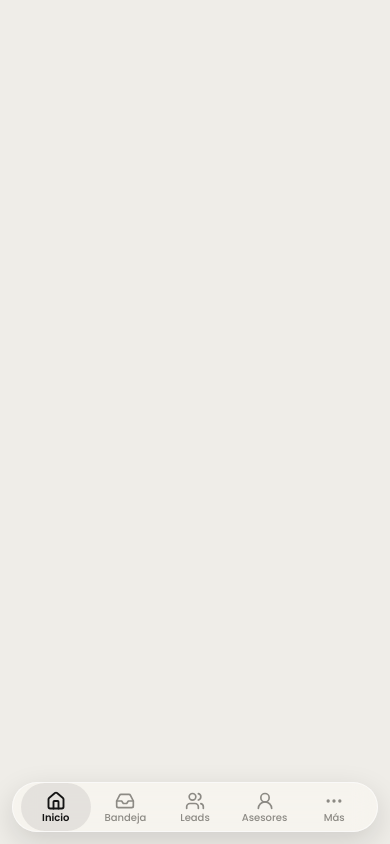
Test case: TabBarAdmin — hoja «Más» › el botón «Más» abre una hoja con Propiedades, Plantillas, Sugerencias, Notificaciones y Ajustes
Click the button "Más" at (334, 807), box [299,783,369,831]
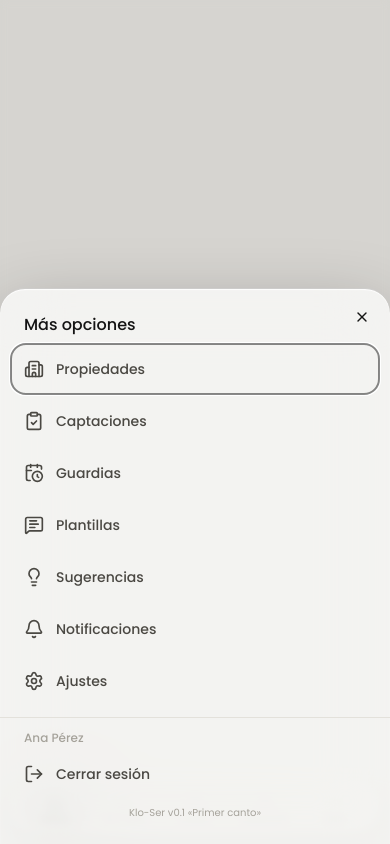
Expected: the link "Propiedades" is shown, [24,359,145,379]
Expected: the link "Plantillas" is shown, [24,515,120,535]
Expected: the link "Sugerencias" is shown, [24,567,144,587]
